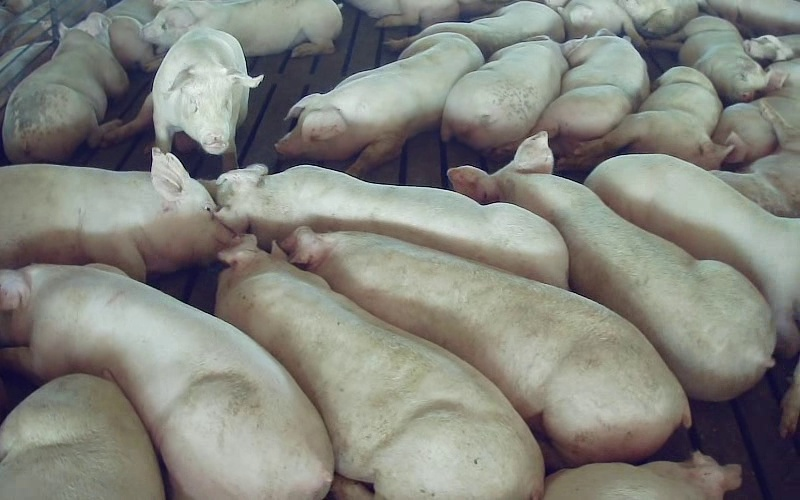pig: (284, 227, 689, 463), (449, 133, 774, 400), (215, 236, 543, 499), (203, 164, 567, 286), (0, 148, 231, 280), (276, 33, 483, 174), (104, 27, 262, 170), (2, 13, 128, 161), (558, 66, 732, 168), (441, 36, 567, 160), (532, 35, 649, 155), (142, 0, 341, 56), (647, 16, 766, 103), (387, 0, 564, 58), (713, 101, 799, 217)
